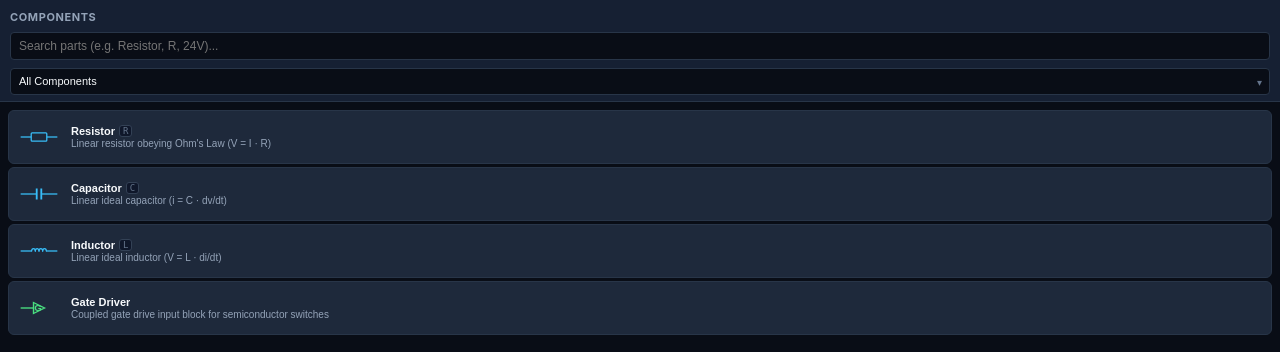
Test case: Palette Component › filters by category selection and resets
The width and height of the screenshot is (1280, 352).
Select "Control & Signal" in the dropdown named "Filter components by category": (640, 82) [10,68,1270,95]
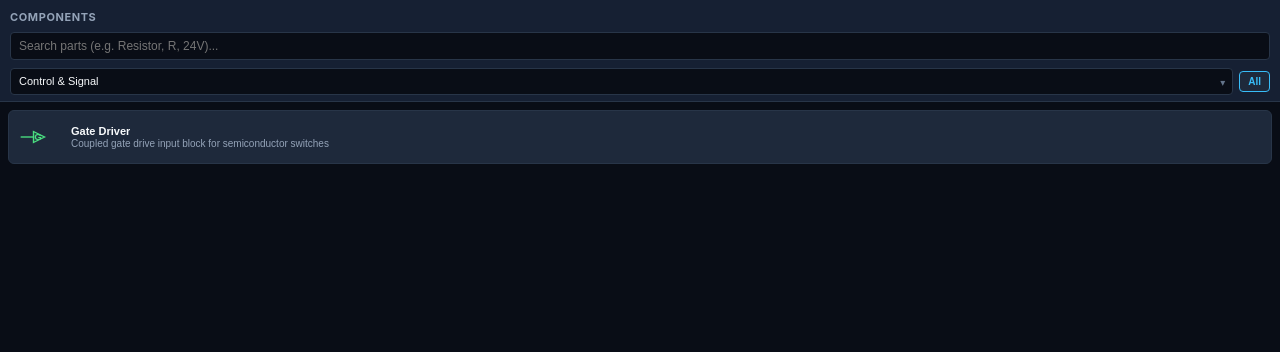
Reset button appears
Click the button "All": (1255, 82) [1239,71,1270,92]
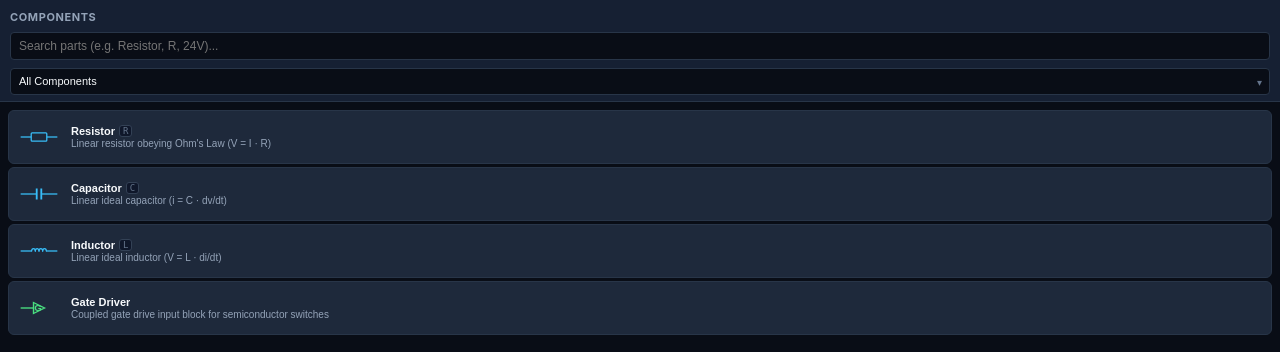
expect the text "Resistor" is shown: met, box [71,125,115,137]
